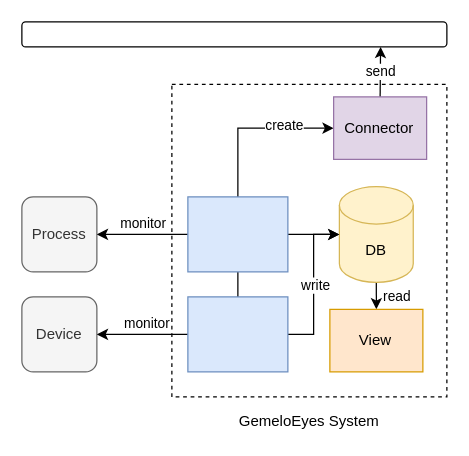
Some shapes in this 469 by 456 pixel diagram are drawn without their labels. The centre of each missing label's shape, as x and y in pixels:
"Device Monitor" goes at point (237, 334).
"Outside" goes at point (234, 34).
"Process Monitor" goes at point (237, 234).
